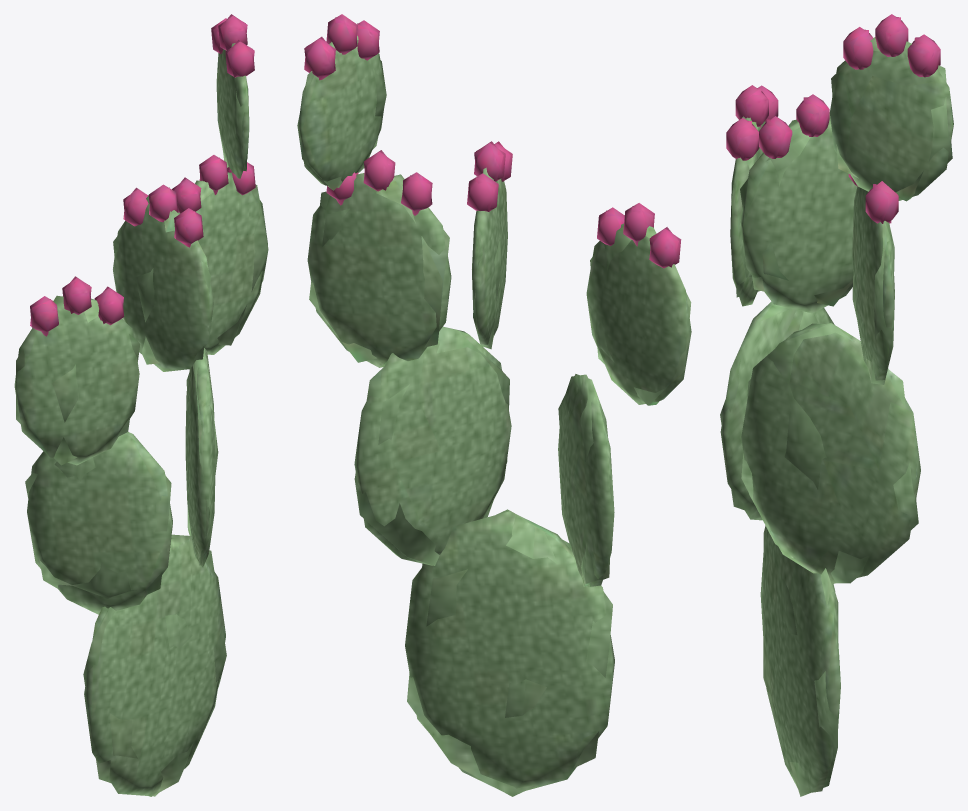
Rendered from nopal.glb.
3 views of the same model, side by side, from view 1: azimuth 30°, elevation 25°; view 2: azimuth 150°, elevation 25°; view 3: azimuth 270°, elevation 25° (orthographic). The views are drawn at different scales.
Parts seen in each view (by area): view 1: nopal, nopal_lp; view 2: nopal, nopal_lp; view 3: nopal, nopal_lp.
Part boxes in pixels (x1=…): nopal: x1=14, y1=16, x2=267, y2=796; nopal_lp: x1=16, y1=14, x2=268, y2=796; nopal: x1=298, y1=14, x2=691, y2=790; nopal_lp: x1=297, y1=17, x2=691, y2=796; nopal: x1=720, y1=14, x2=953, y2=792; nopal_lp: x1=720, y1=17, x2=952, y2=796.
Bounding box in the file's own units: 0.6739 × 1.54 × 0.3856.
2 materials, 2 textured.
